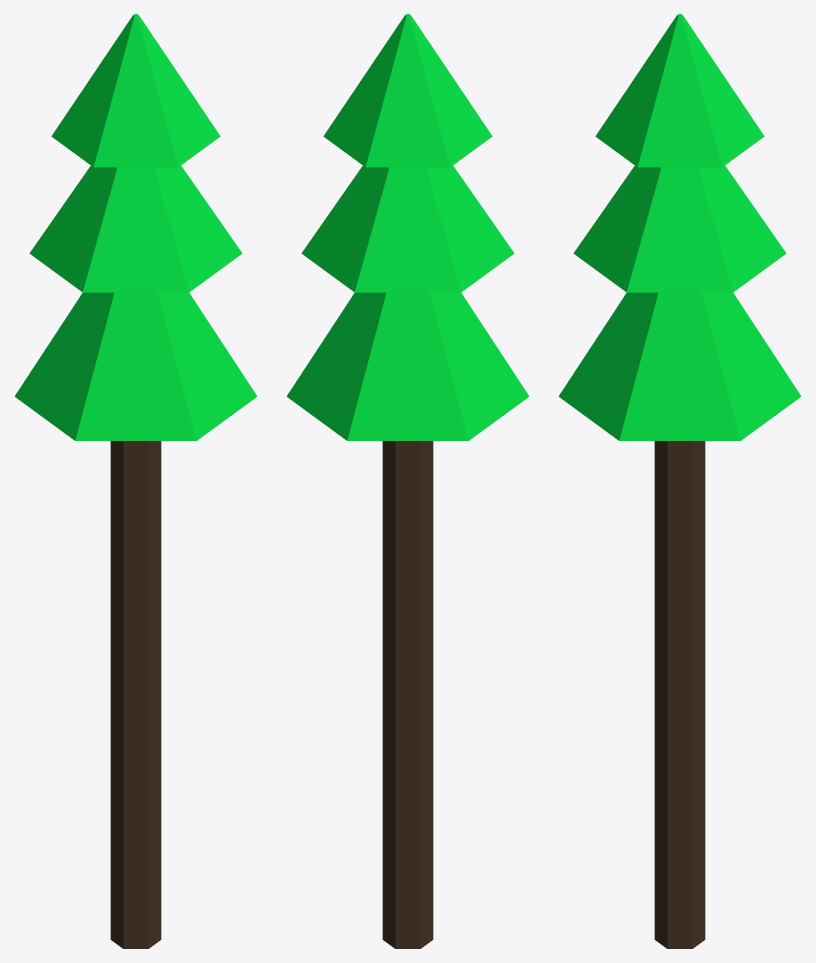
Rendered from HighTree2.fbx.
3 views of the same model, side by side, from view 1: azimuth 30°, elevation 25°; view 2: azimuth 150°, elevation 25°; view 3: azimuth 270°, elevation 25° (orthographic).
Visible parts, largest first — view 1: Cylinder; view 2: Cylinder; view 3: Cylinder.
Part boxes in pixels (bbox=[...]): Cylinder: bbox=[14, 14, 257, 948]; Cylinder: bbox=[286, 14, 529, 948]; Cylinder: bbox=[558, 14, 801, 948].
Size of the model in its own units: 957 by 4015 by 828.
